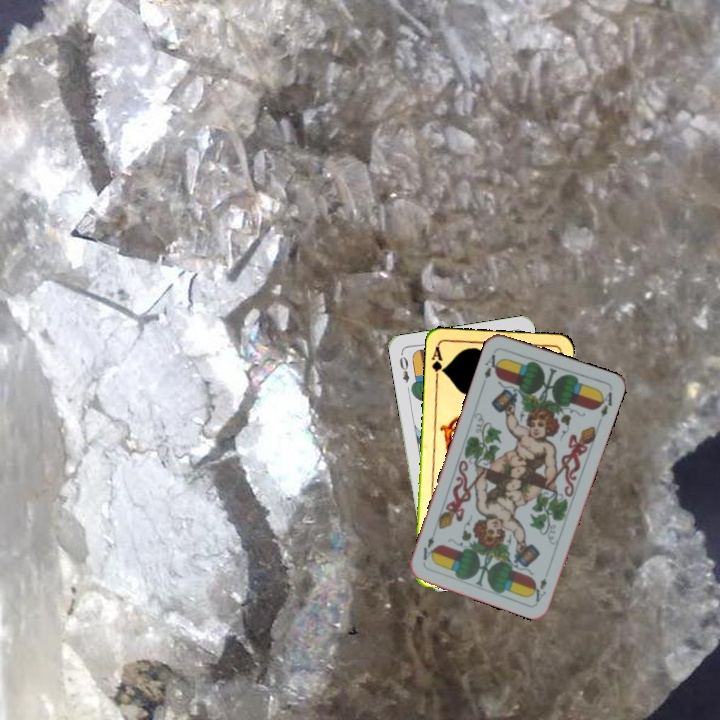EA: (480, 350, 503, 381), (529, 574, 550, 605)
EO: (395, 349, 412, 385)
GA: (428, 342, 447, 383)
